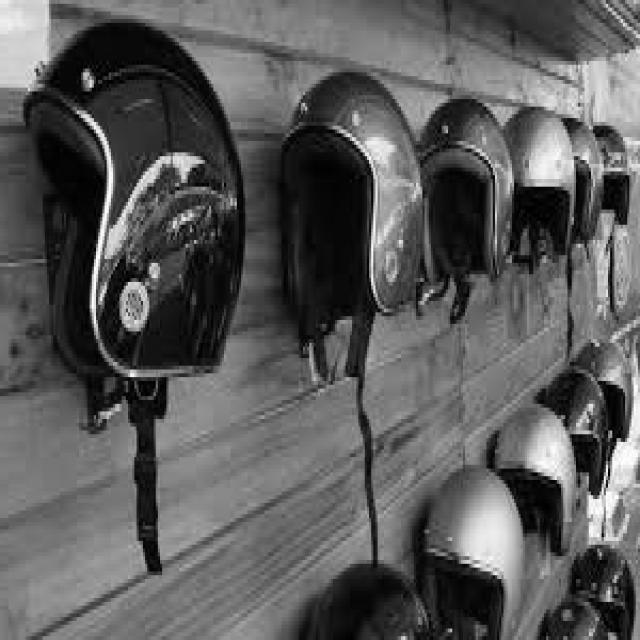Helmet: (35, 18, 248, 396), (279, 71, 420, 318), (418, 98, 516, 289), (495, 106, 574, 286)
